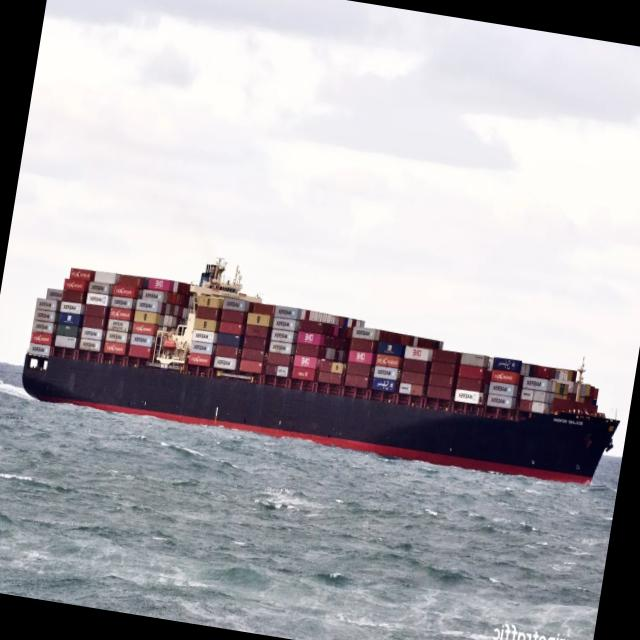Cargo: (22, 260, 619, 480)
